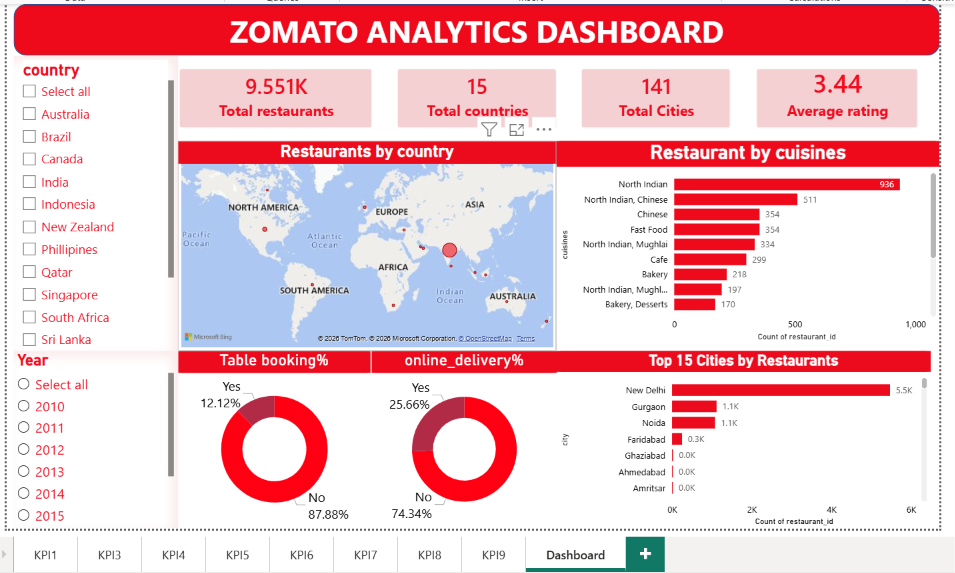

The dashboard page shown, as its layout file describes it:
{"tool":"powerbi","page":{"name":"Dashboard","canvas":[1280,720],"ordinal":8},"visuals":[{"type":"cardVisual","fields":{"Data":["CountNonNull(restaurants_clean_all.restaurant_id)"]},"box":[218.9,70.9,299.3,116.6],"z":0},{"type":"cardVisual","fields":{"Data":["Count(Country_Map.country)"]},"box":[518.2,70.9,253.6,116.6],"z":1},{"type":"cardVisual","fields":{"Data":["Count(restaurants_clean_all.city)"]},"box":[771.8,70.9,239.4,116.6],"z":2},{"type":"shape","box":[9.5,0,1271.1,70.9],"z":3},{"type":"cardVisual","fields":{"Data":["Avg(restaurants_clean_all.rating)"]},"box":[1011.4,71.4,256.6,116.6],"z":4},{"type":"map","title":"Restaurants by country","fields":{"Category":["Country_Map.country"],"Size":["CountNonNull(restaurants_clean_all.restaurant_id)"]},"box":[234.7,188,520.1,288.2],"z":5},{"type":"clusteredBarChart","title":"Restaurant by cuisines","fields":{"Category":["restaurants_clean_all.cuisines"],"Y":["CountNonNull(restaurants_clean_all.restaurant_id)"]},"box":[754.8,188,525.6,278.6],"z":6},{"type":"donutChart","title":"Table booking%","fields":{"Category":["restaurants_clean_all.has_table_booking"],"Y":["CountNonNull(restaurants_clean_all.restaurant_id)"]},"box":[234.7,476.2,264.9,244.3],"z":7},{"type":"donutChart","title":"online_delivery%","fields":{"Category":["restaurants_clean_all.has_online_delivery"],"Y":["CountNonNull(restaurants_clean_all.restaurant_id)"]},"box":[500.9,476.2,253.9,244.3],"z":8},{"type":"clusteredBarChart","title":"Top 15 Cities by Restaurants","fields":{"Category":["restaurants_clean_all.city"],"Y":["CountNonNull(restaurants_clean_all.restaurant_id)"]},"box":[754.8,476.2,513.3,244.3],"z":9},{"type":"slicer","fields":{"Values":["Country_Map.country"]},"box":[9.5,70.9,225.2,404.8],"z":10},{"type":"listSlicer","fields":{"Values":["Calendar_Table.Year"]},"box":[9.5,475.7,225.2,242.6],"z":11}]}

Visuals, with their boxes in screenshot pixels (x1, y1, x2, y2):
cardVisual - CountNonNull(restaurants_clean_all.restaurant_id): crop(159, 52, 379, 138)
cardVisual - Count(Country_Map.country): crop(379, 52, 565, 138)
cardVisual - Count(restaurants_clean_all.city): crop(565, 52, 742, 138)
shape: crop(4, 0, 940, 52)
cardVisual - Avg(restaurants_clean_all.rating): crop(742, 53, 930, 138)
"Restaurants by country" map: crop(170, 138, 553, 350)
"Restaurant by cuisines" clusteredBarChart: crop(553, 138, 940, 343)
"Table booking%" donutChart: crop(170, 350, 365, 530)
"online_delivery%" donutChart: crop(366, 350, 553, 530)
"Top 15 Cities by Restaurants" clusteredBarChart: crop(553, 350, 931, 530)
slicer - Country_Map.country: crop(4, 52, 170, 350)
listSlicer - Calendar_Table.Year: crop(4, 350, 170, 529)
